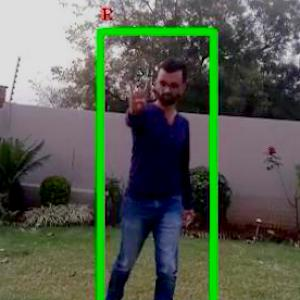takeoff-hand: (122, 78, 154, 120)
